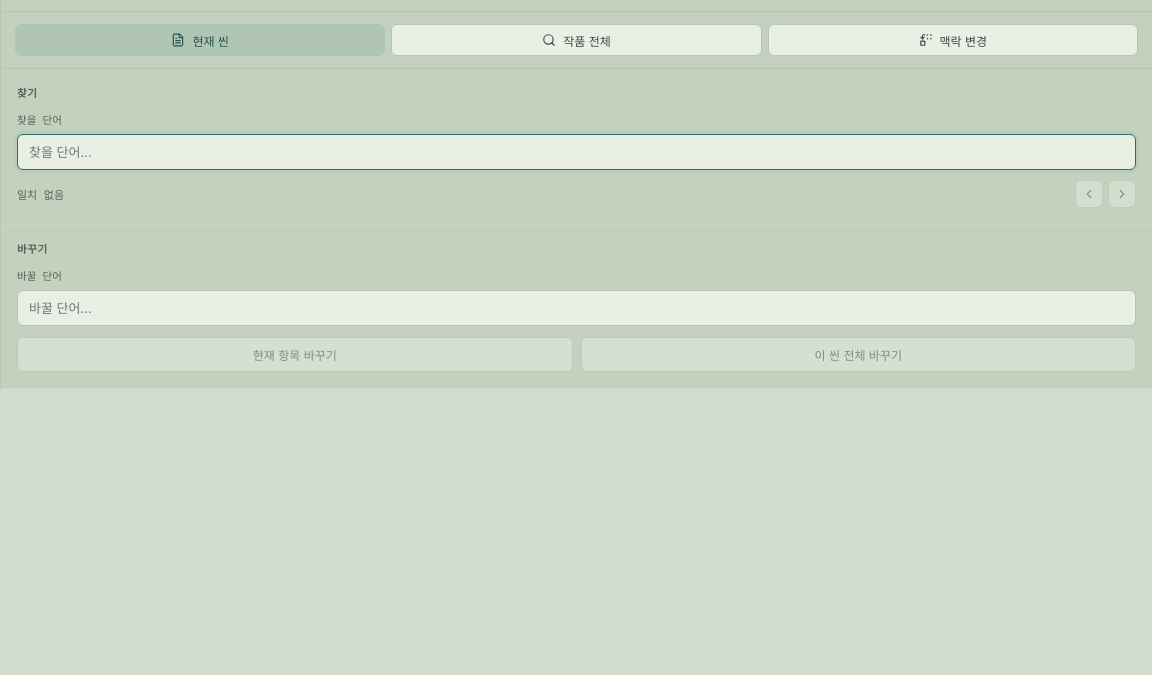
Test: ContextualEditPanel › plans and applies contextual changes with fact-book metadata
Click the tab "맥락 변경" at (953, 40), box top-left (768, 24), bottom-right (1138, 56)
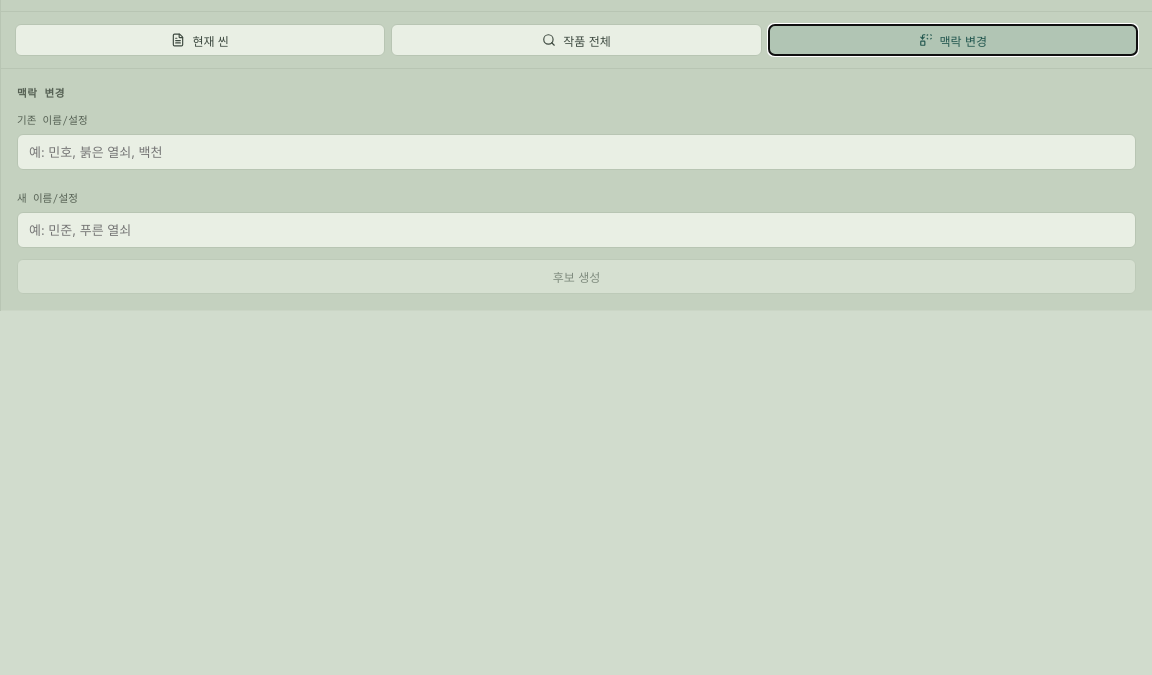
Type "민호" into the field labelled "기존 이름/설정" at (576, 152), box top-left (17, 134), bottom-right (1136, 170)
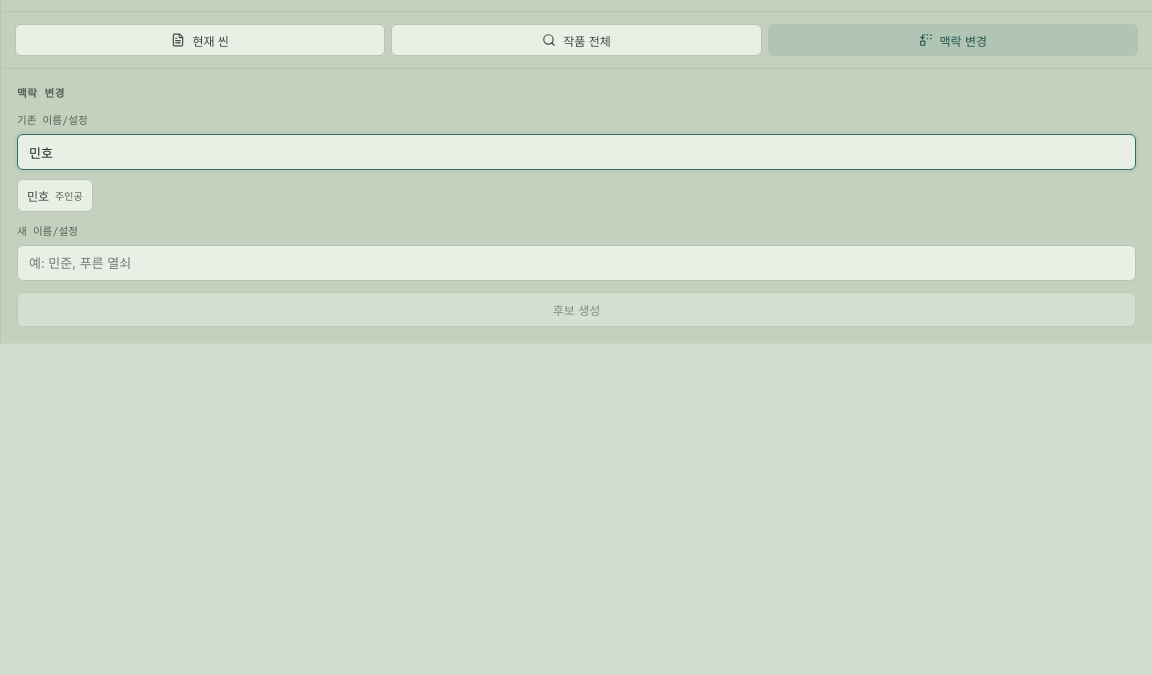
Click the button "민호 주인공" at (55, 196), box top-left (17, 179), bottom-right (93, 212)
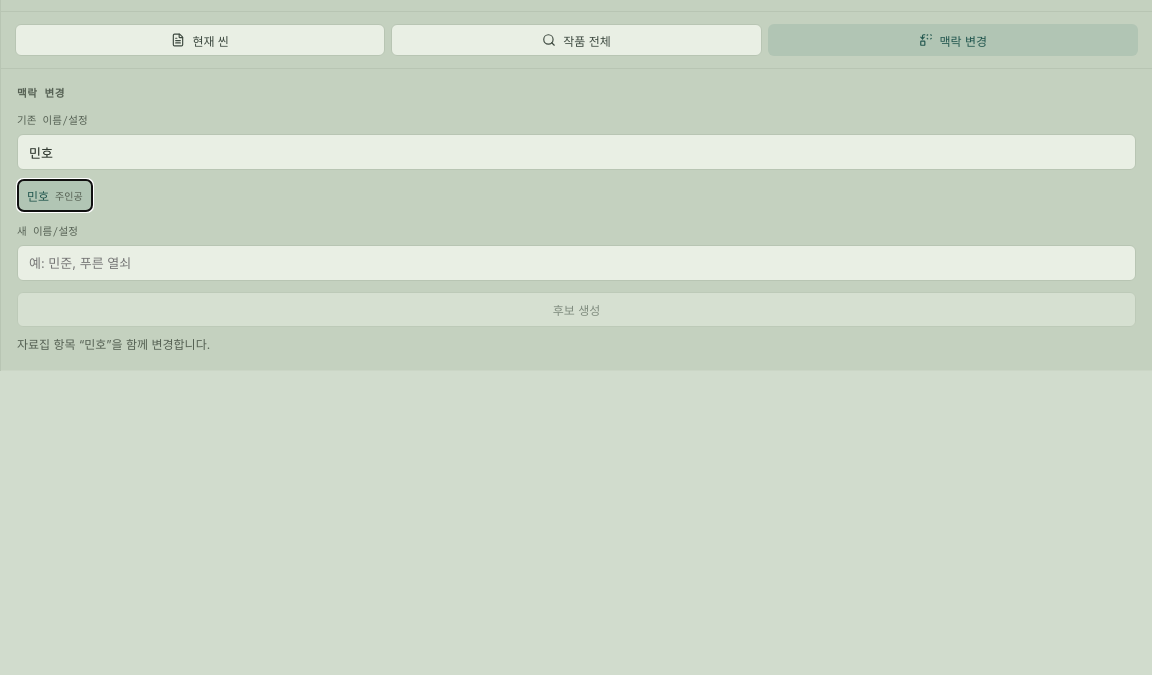
Type "민준" into the field labelled "새 이름/설정" at (576, 263), box top-left (17, 245), bottom-right (1136, 281)
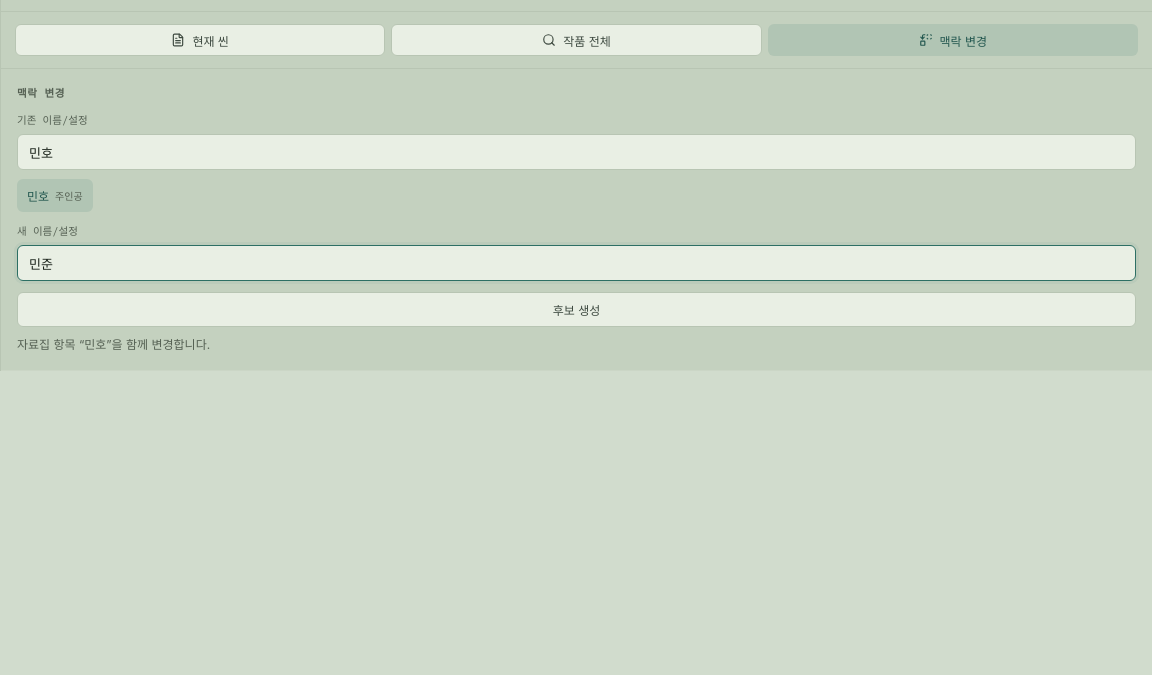
Click the button "후보 생성" at (576, 310), box top-left (17, 292), bottom-right (1136, 327)
(page scrolled)
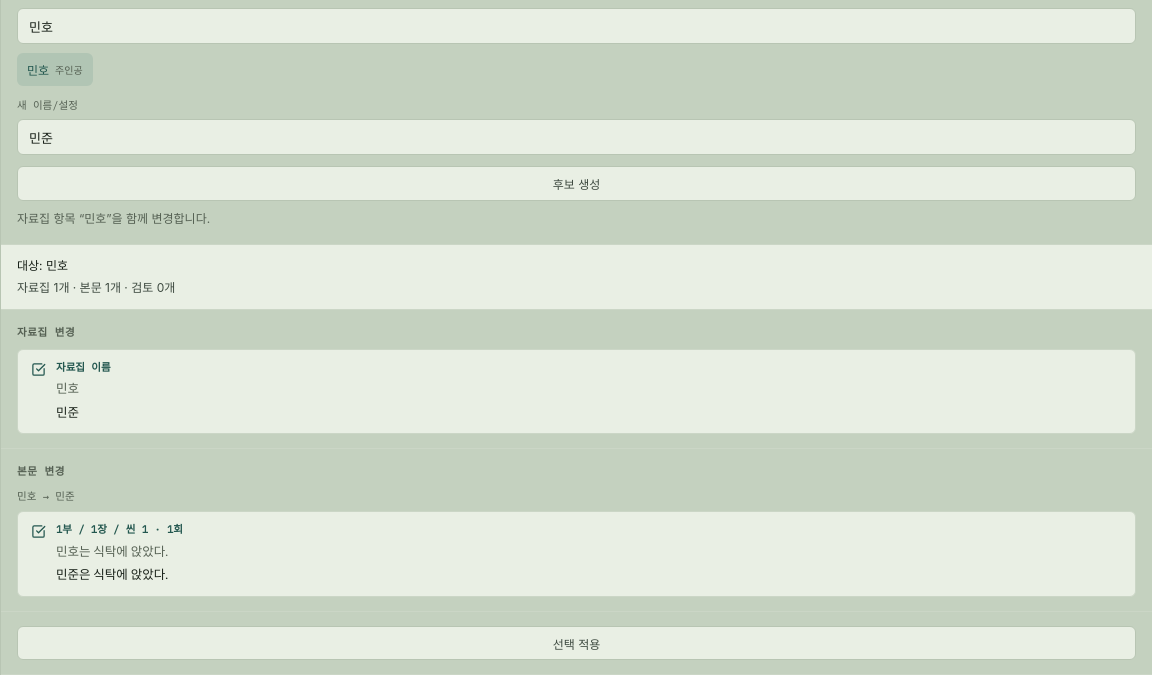
Expected: the text "자료집 이름" is shown, top-left (56, 360), bottom-right (111, 374)
Expected: the text "민준은 식탁에 앉았다." is shown, top-left (56, 570), bottom-right (168, 582)
Click the button "선택 적용" at (576, 643), box top-left (17, 626), bottom-right (1136, 660)
(page scrolled)
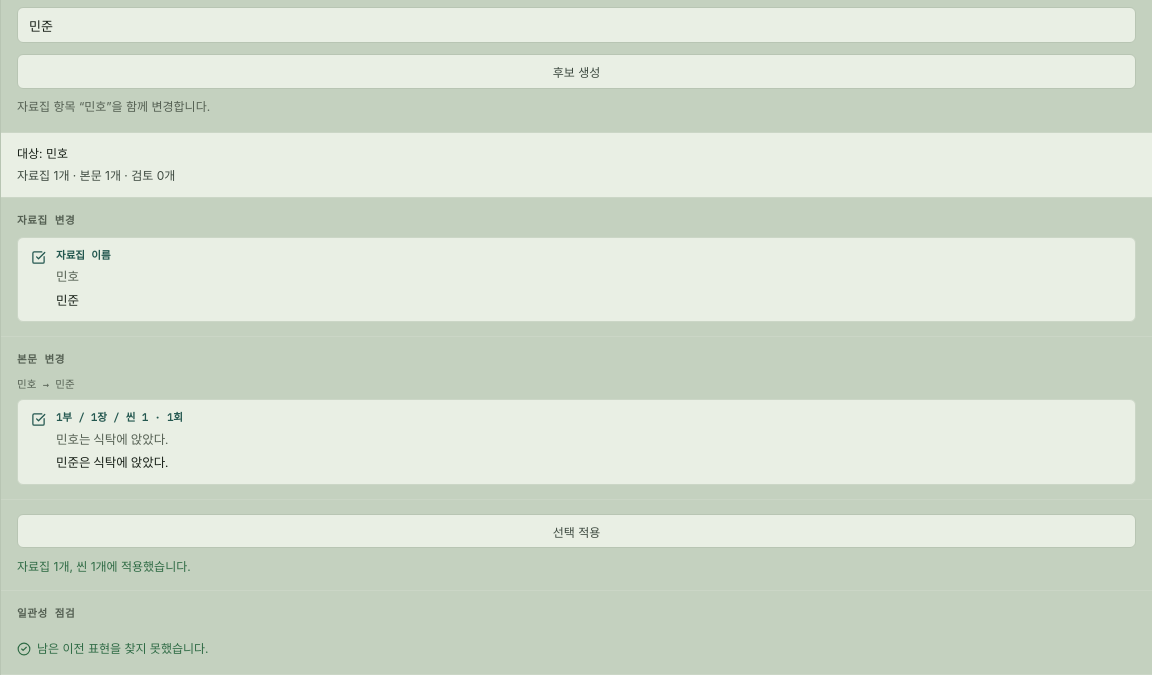
Expected: the text "남은 이전 표현을 찾지 못했습니다." is shown, top-left (17, 640), bottom-right (208, 658)
